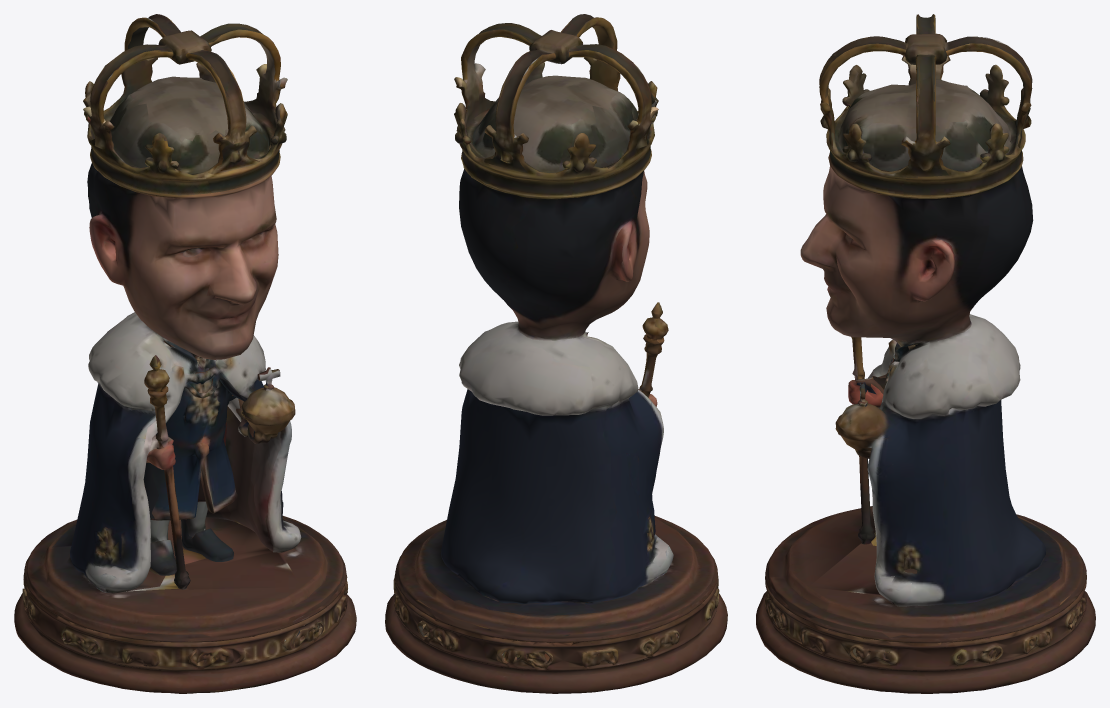
Rendered from king-riccardo-50k.glb.
3 renders of one model, left to right at view 1: azimuth 30°, elevation 25°; view 2: azimuth 150°, elevation 25°; view 3: azimuth 270°, elevation 25°, orthographic.
Visible parts, largest first — view 1: tmpl12bltyu.ply; view 2: tmpl12bltyu.ply; view 3: tmpl12bltyu.ply.
Boxes of the visible parts, left/top/right/bottom form: tmpl12bltyu.ply: left=14, top=14, right=356, bottom=693; tmpl12bltyu.ply: left=385, top=14, right=727, bottom=693; tmpl12bltyu.ply: left=756, top=14, right=1095, bottom=693.
Bounding box in the file's own units: 0.529 × 1 × 0.529.
1 material, 1 textured.
